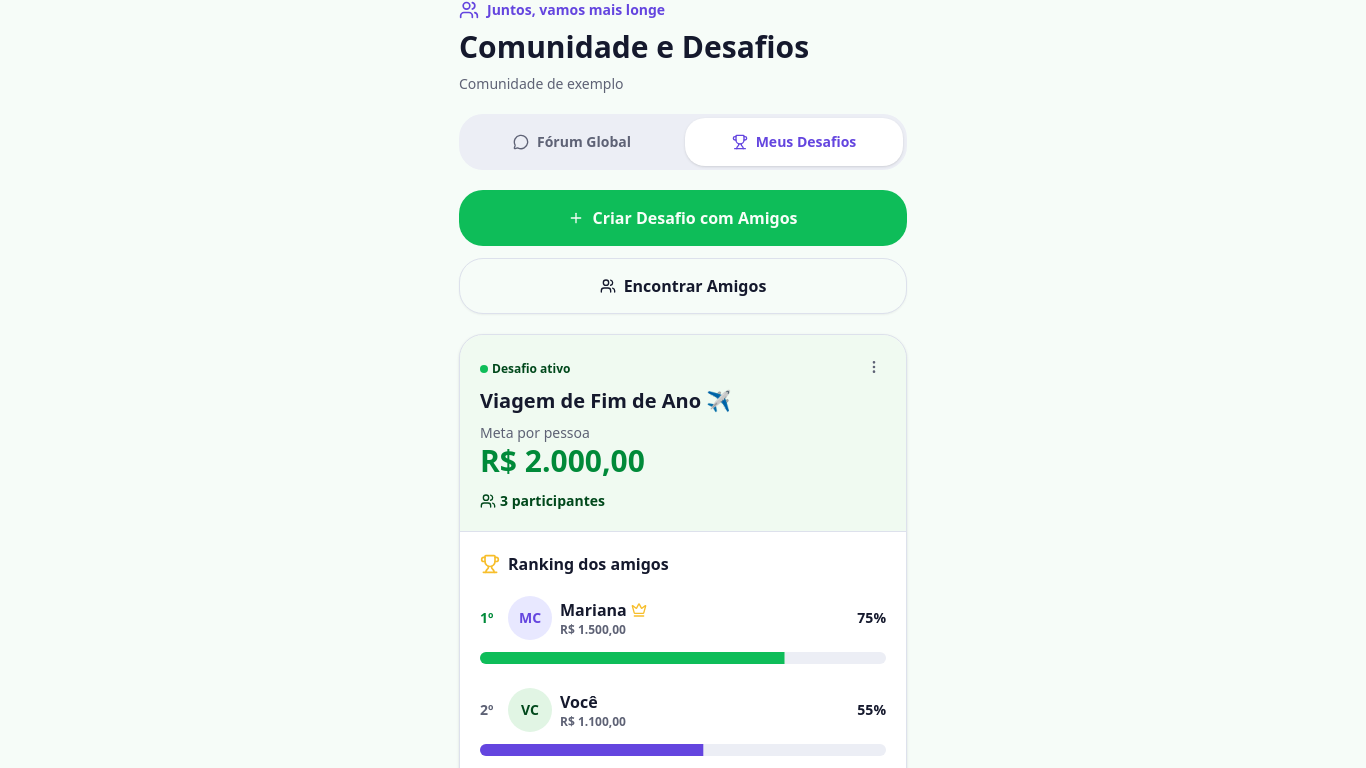
Test: Community and challenges › leaves the active challenge after confirmation
The image size is (1366, 768).
Earlier steps of the test are not shown.
Expected: the heading "Viagem de Fim de Ano ✈️" is shown, [480,386,731,414]
What coordinates should you click on to do the following:
click the button named "Opções do desafio Viagem de Fim de Ano ✈️"
I would click on:
 (874, 366)
Its box is [854,346,894,386].
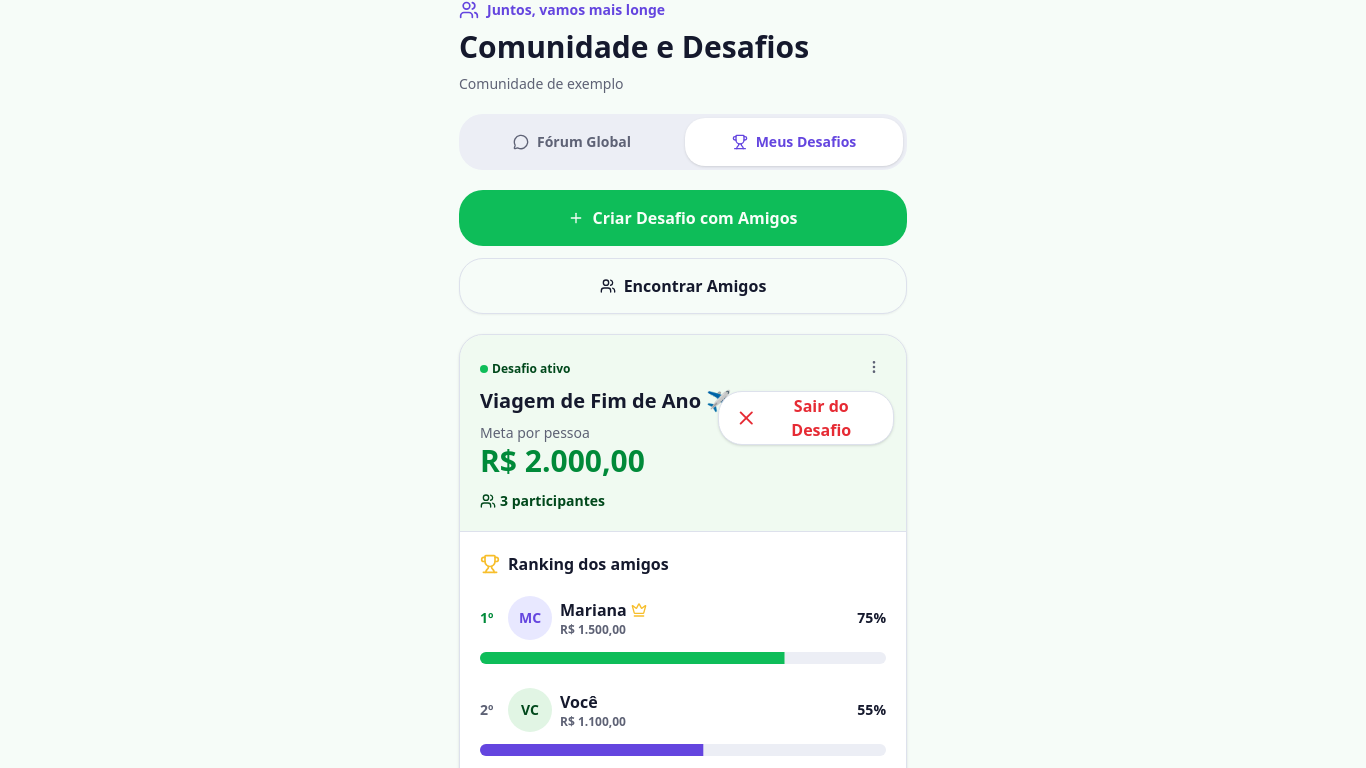
What coordinates should you click on to do the following:
click the menu item "Sair do Desafio"
I would click on:
 (806, 418)
Its box is [723,396,889,440].
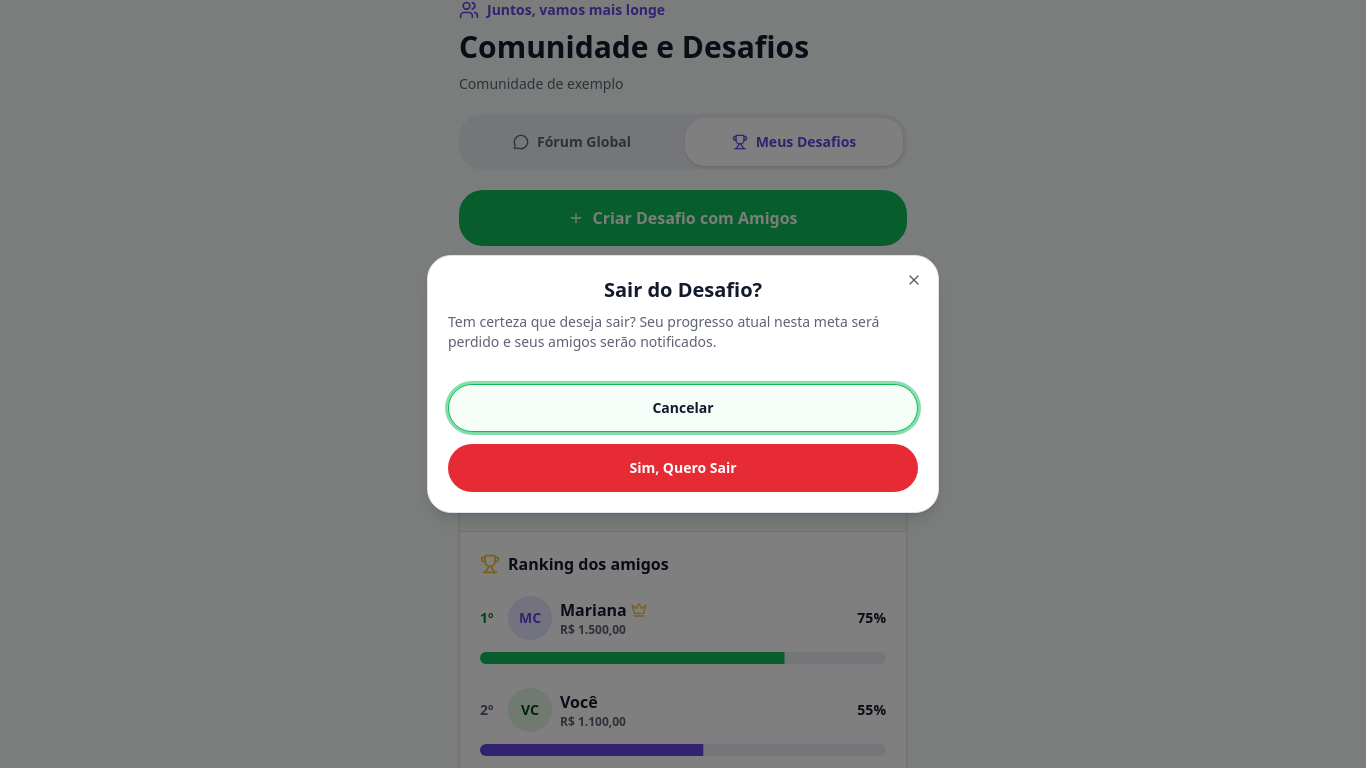
Expected: the heading "Sair do Desafio?" is shown, [604,276,762,304]
Expected: the text "Seu progresso atual nesta meta será perdido" is shown, [448,312,879,351]
What coordinates should you click on to do the following:
click the button "Cancelar"
I would click on:
 (683, 408)
Its box is [448,384,918,432].
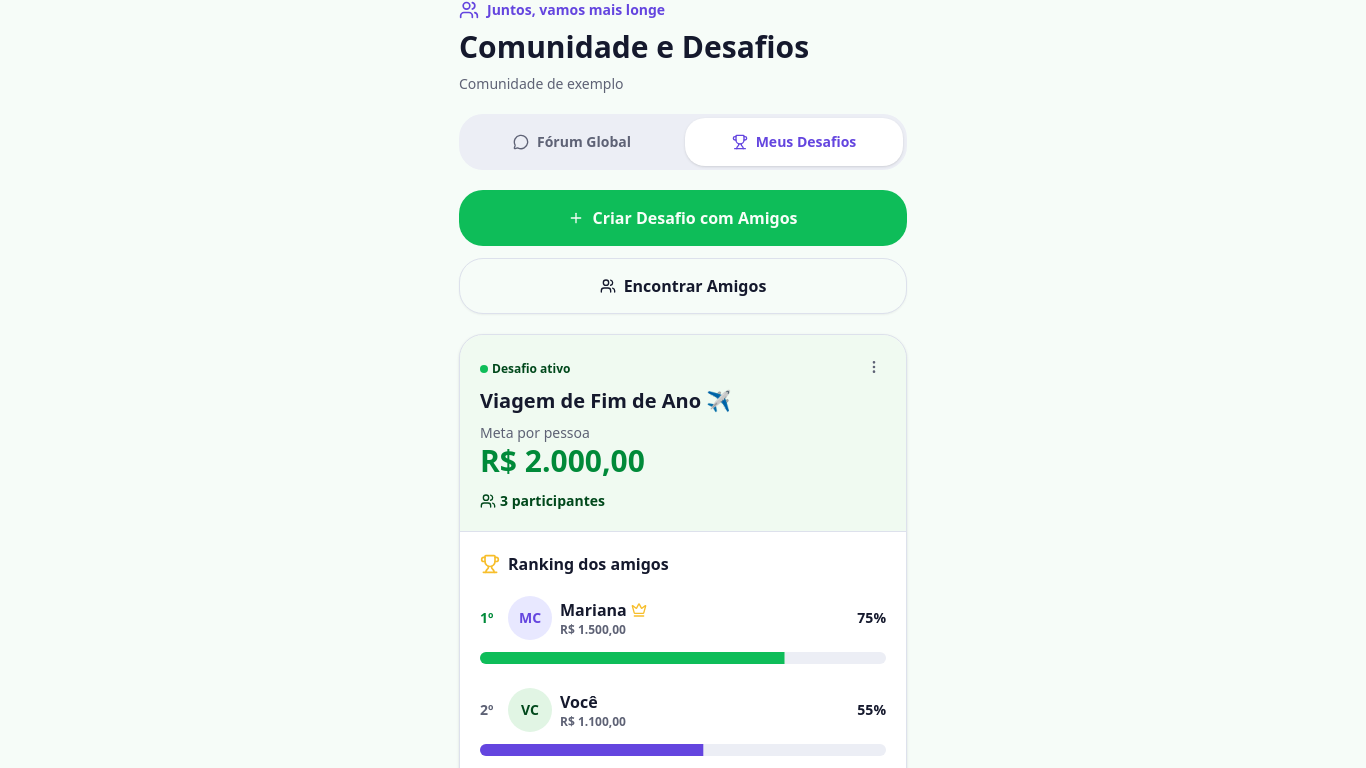
Expected: the heading "Viagem de Fim de Ano ✈️" is shown, [480,386,731,414]
What coordinates should you click on to do the following:
click the button named "Opções do desafio Viagem de Fim de Ano ✈️"
I would click on:
 (874, 366)
Its box is [854,346,894,386].
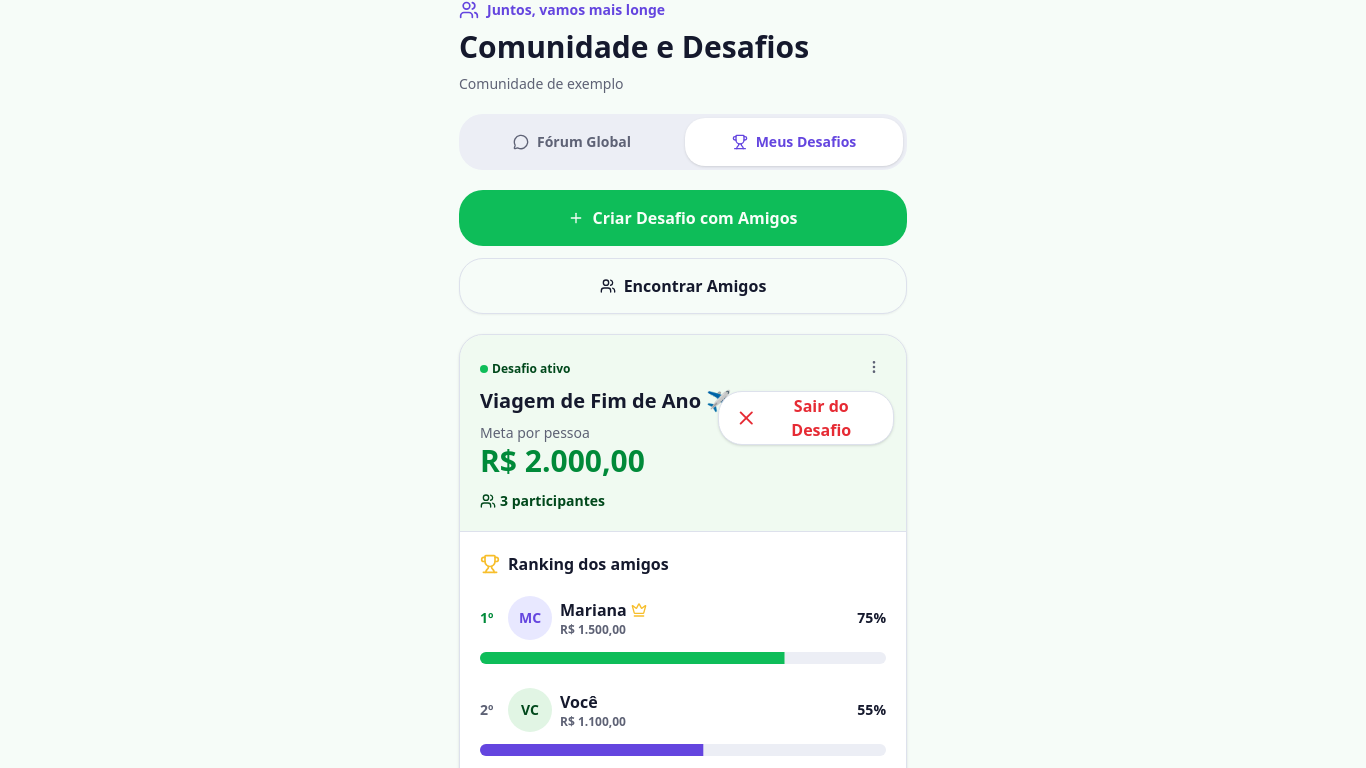
What coordinates should you click on to do the following:
click the menu item "Sair do Desafio"
I would click on:
 (806, 418)
Its box is [723,396,889,440].
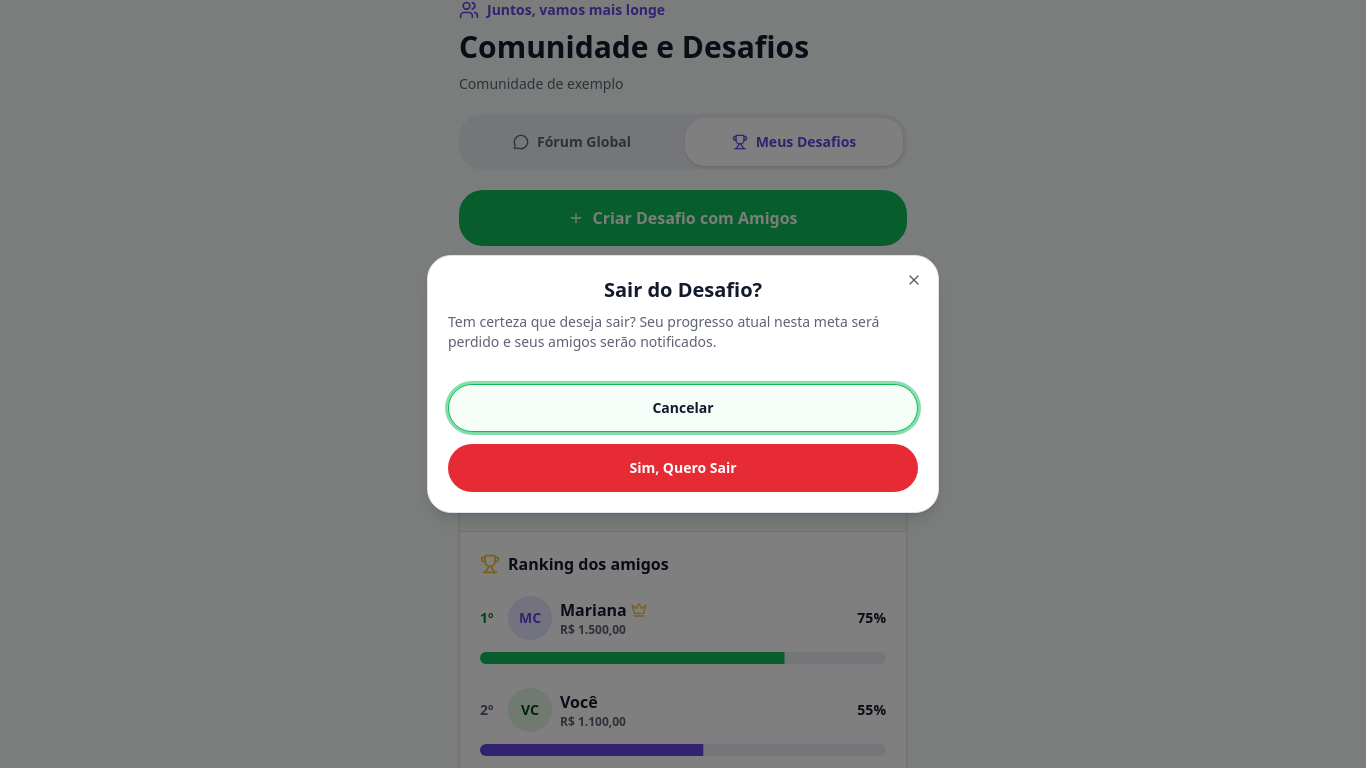
What coordinates should you click on to do the following:
click the button "Sim, Quero Sair"
I would click on:
 (683, 468)
Its box is [448,444,918,492].
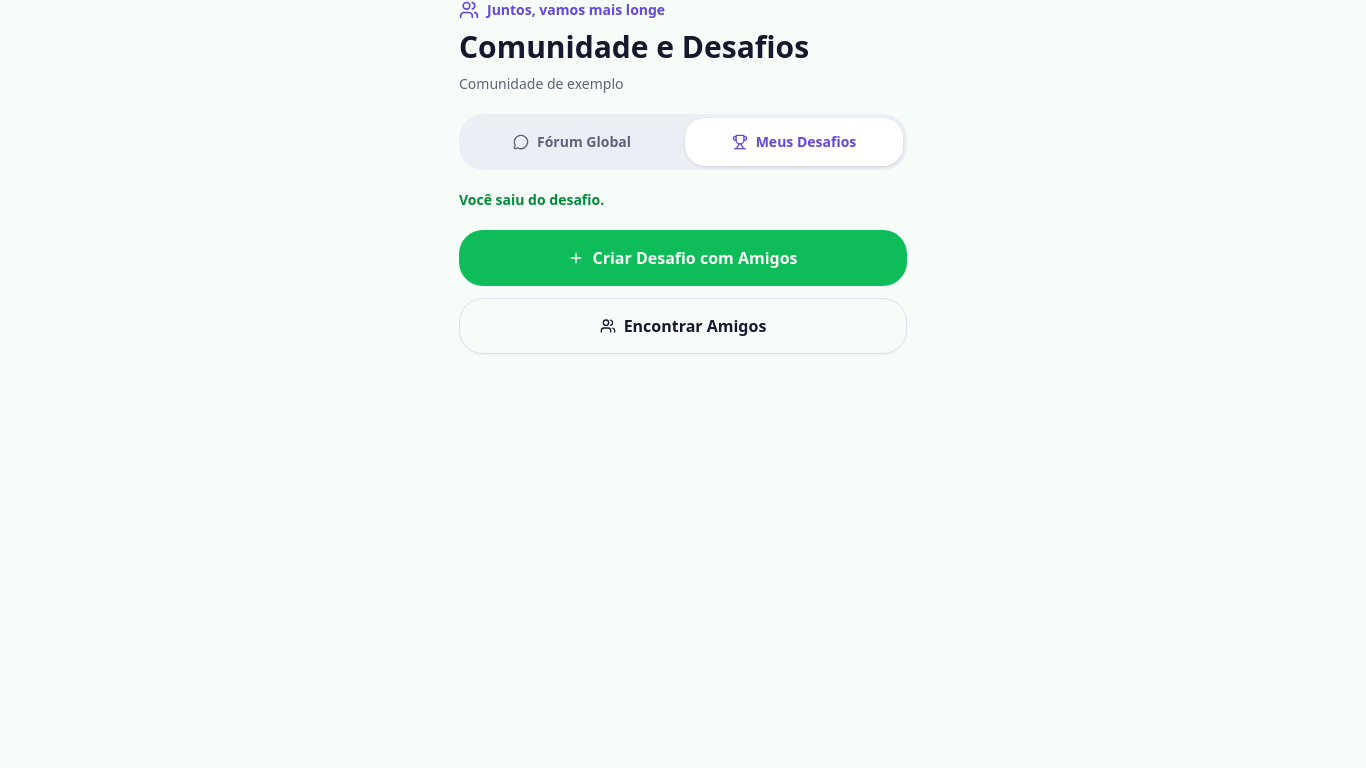
Expected: the heading "Viagem de Fim de Ano ✈️" is gone
Expected: the text "Você saiu do desafio." is shown, [459,190,604,208]
